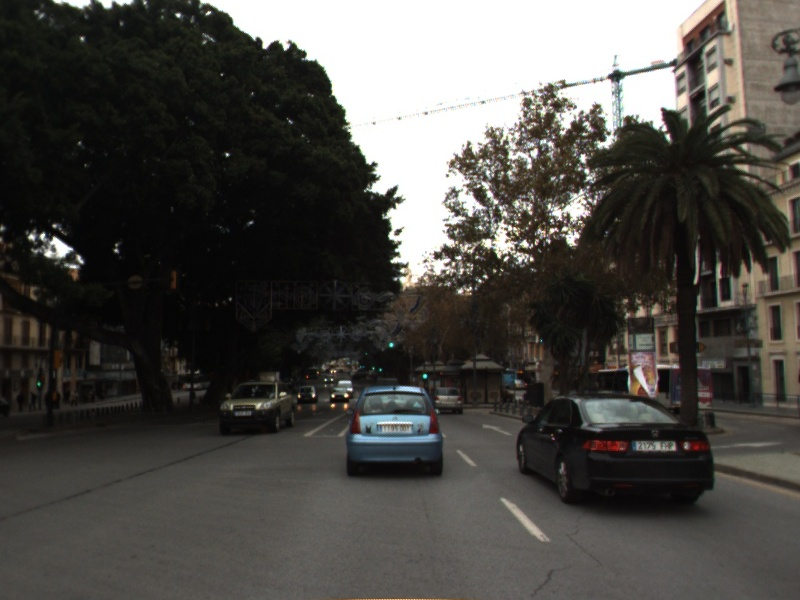STRAIGHT: (480, 421, 514, 437)
